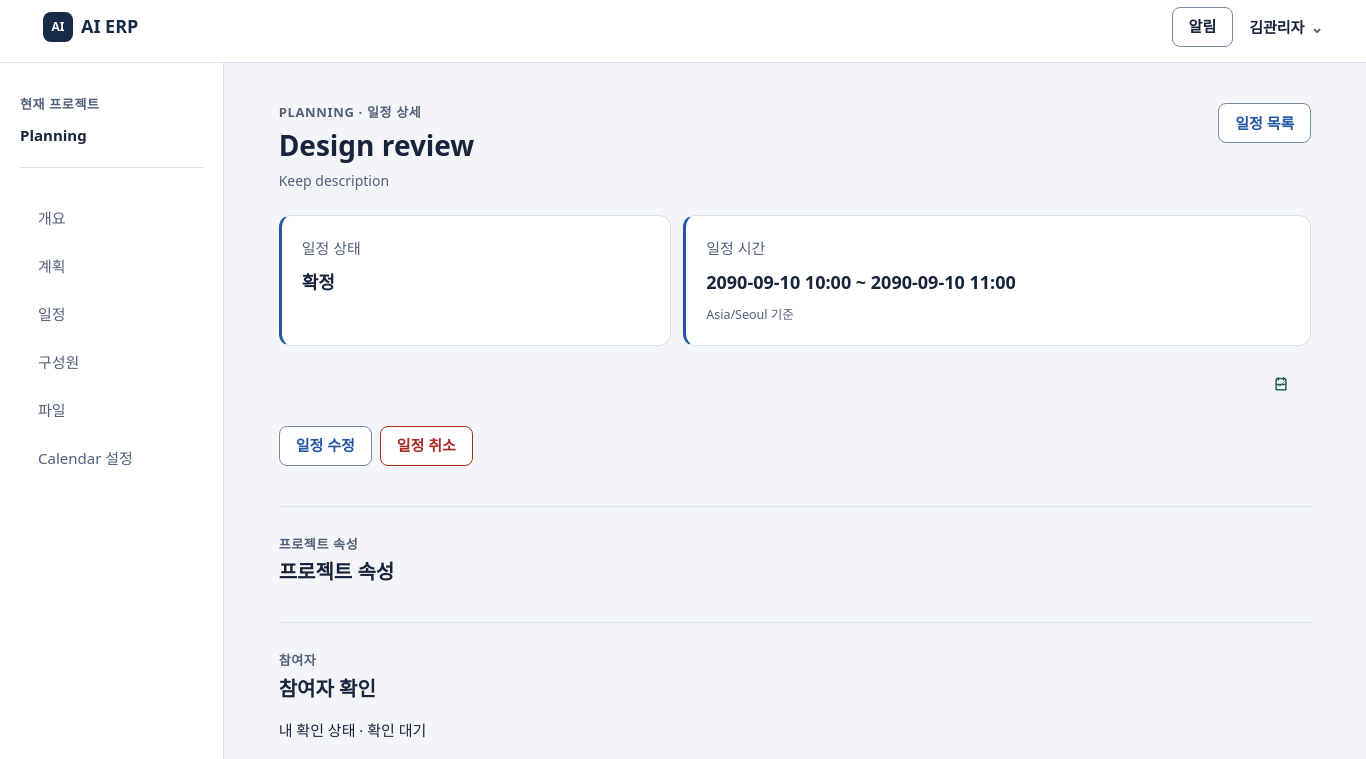
P05 cancel exact body and authoritative refetch
The image size is (1366, 759).
Click the button "일정 취소" at [426, 446], box top-left (380, 426), bottom-right (473, 466)
(page scrolled)
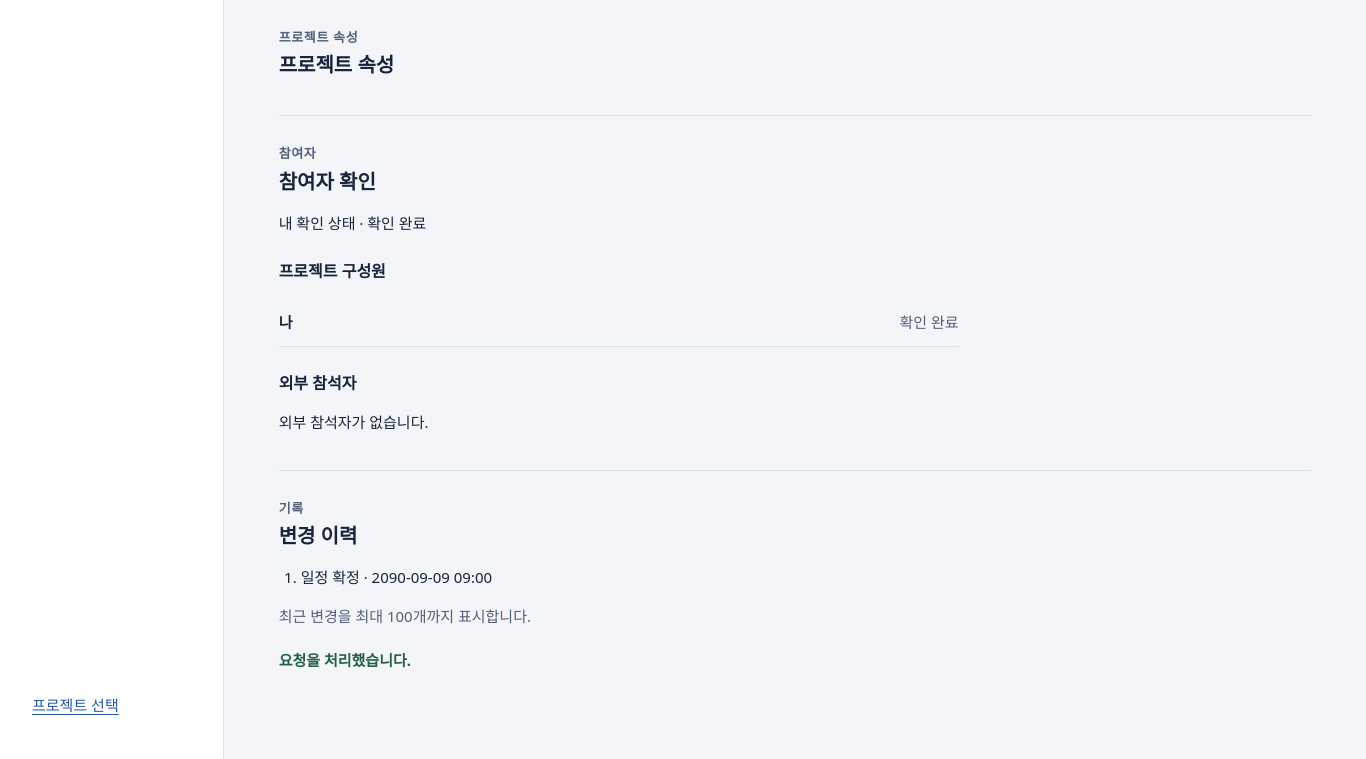
Expected: the text "요청을 처리했습니다." is shown, top-left (279, 650), bottom-right (411, 670)
Expected: the button "일정 취소" is gone
